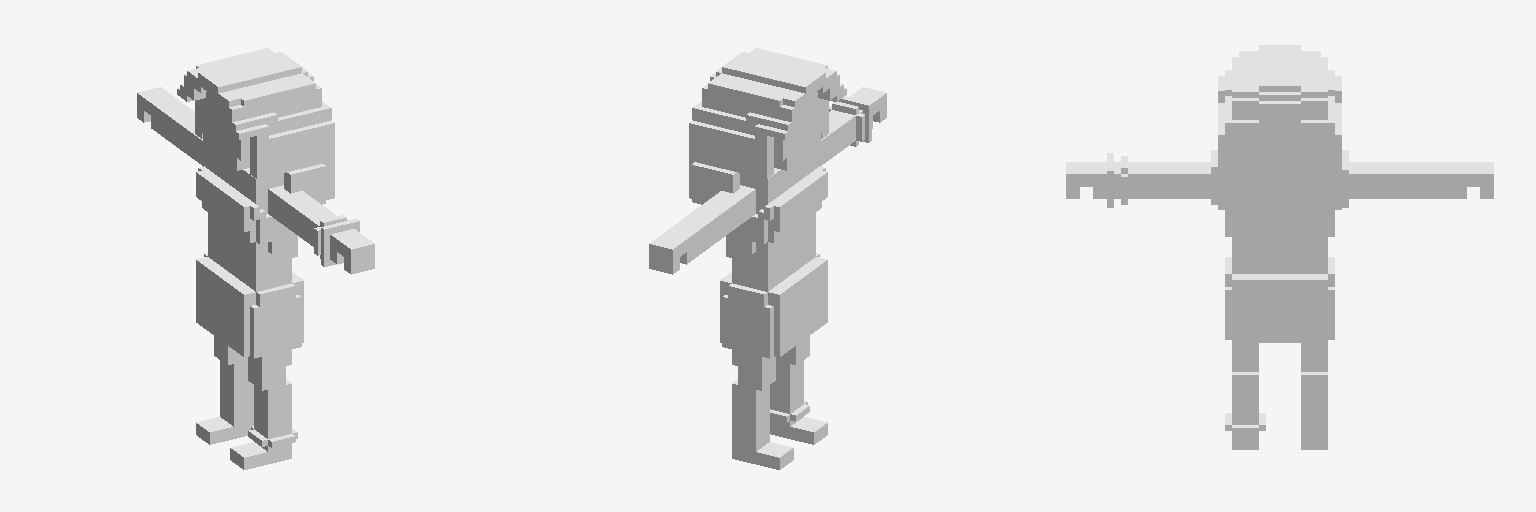
File: female_char6.obj
3 renders of one model, left to right at view 1: azimuth 30°, elevation 25°; view 2: azimuth 150°, elevation 25°; view 3: azimuth 270°, elevation 25°, orthographic.
Visible parts, largest first — view 1: object 1; view 2: object 1; view 3: object 1.
Part boxes in pixels (x1,y1,x2,y2): object 1: (137, 48, 374, 469); object 1: (649, 48, 886, 469); object 1: (1066, 45, 1493, 449).
Size of the model in its own units: 1.6 by 6 by 6.2.